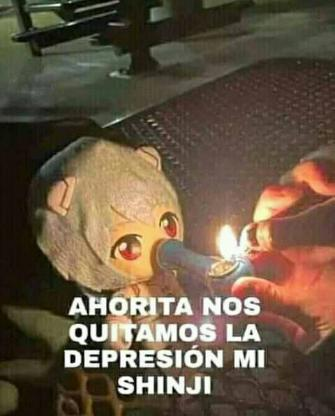rei-plush: (26, 133, 191, 299)
